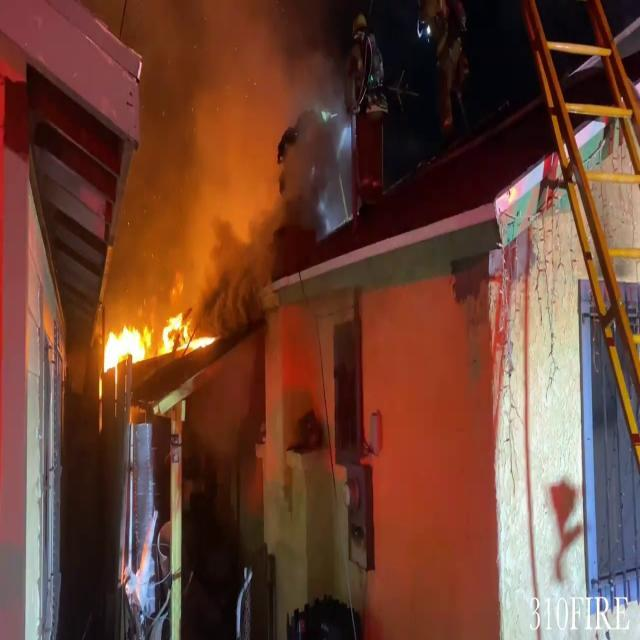Fire: (99, 294, 208, 374)
Smoke: (99, 0, 339, 286)
